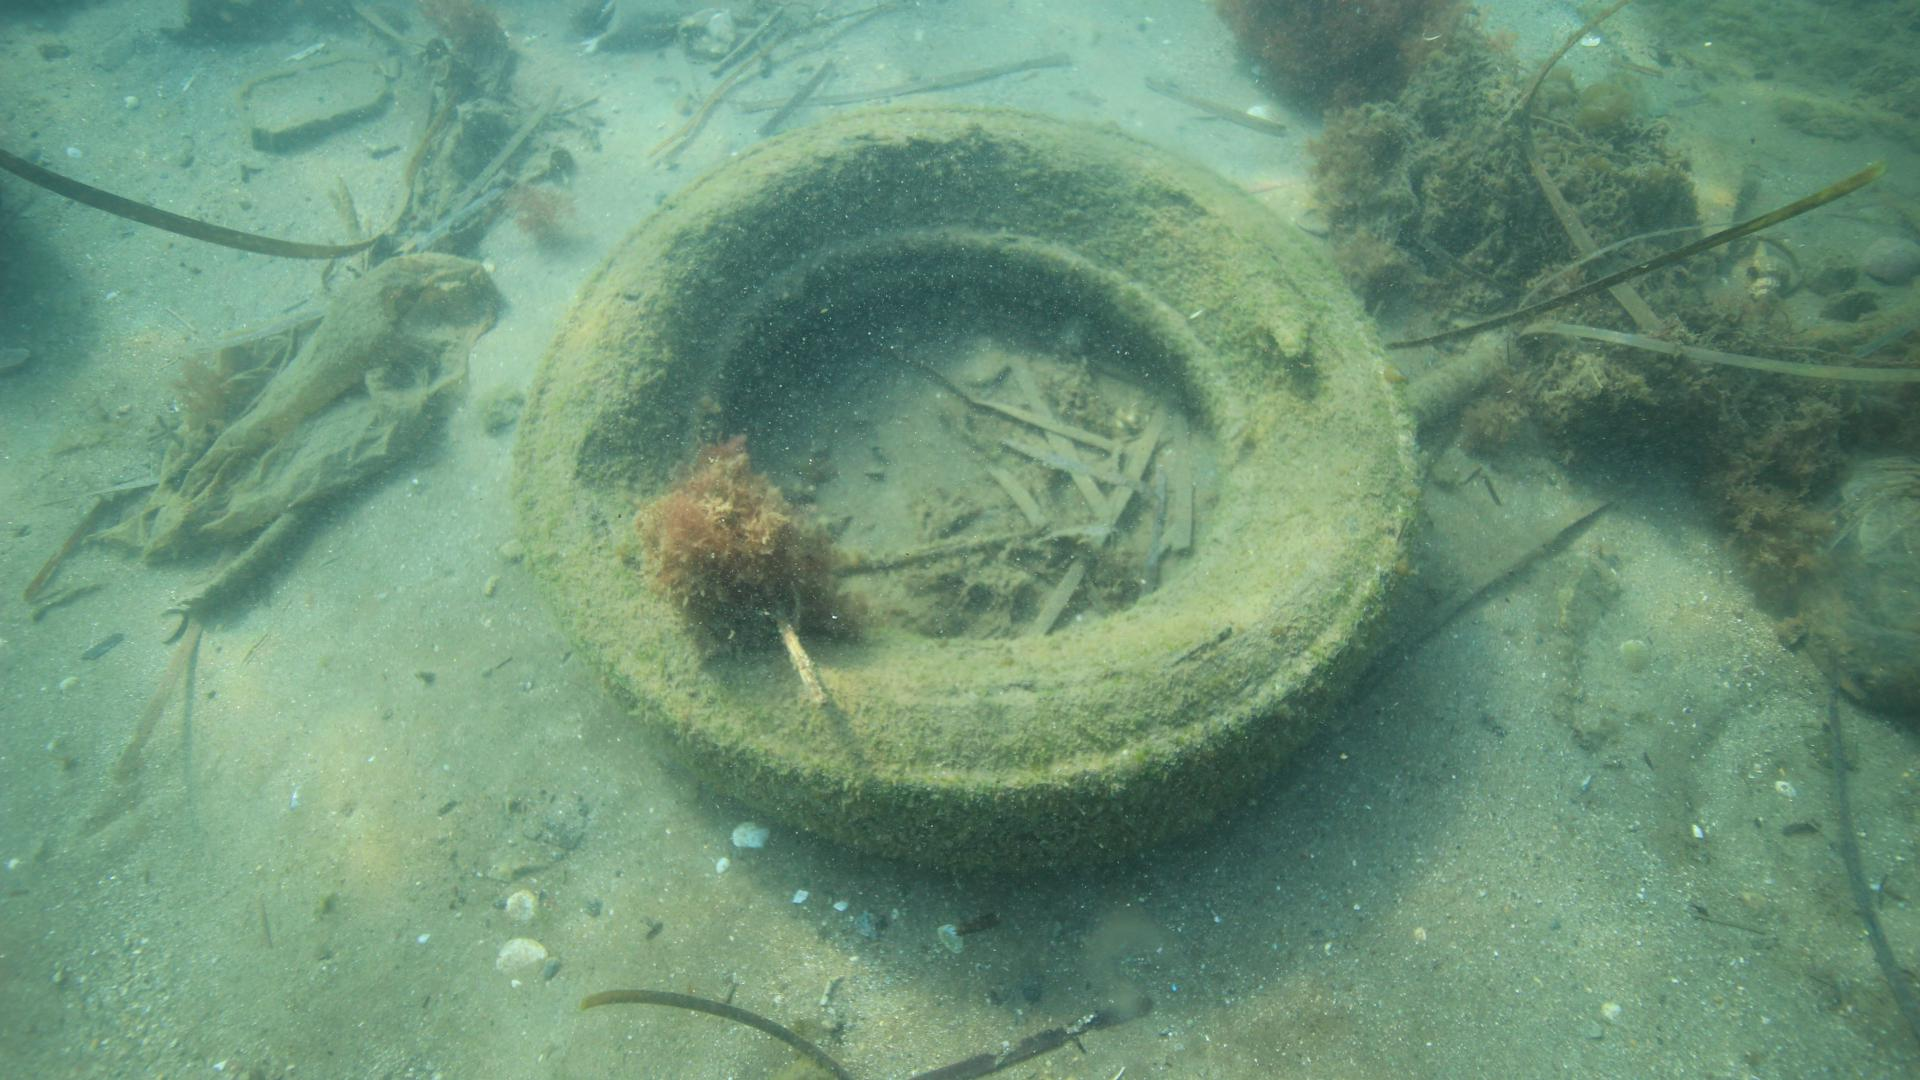tire: (517, 105, 1422, 866)
